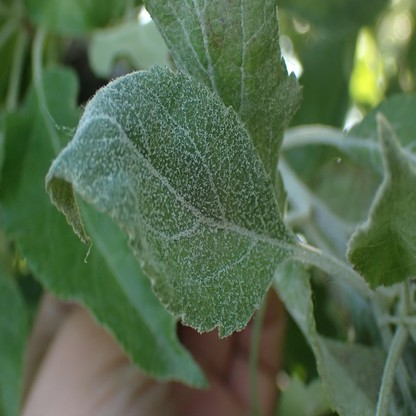powdery_mildew: (45, 66, 295, 341), (143, 2, 304, 224)
